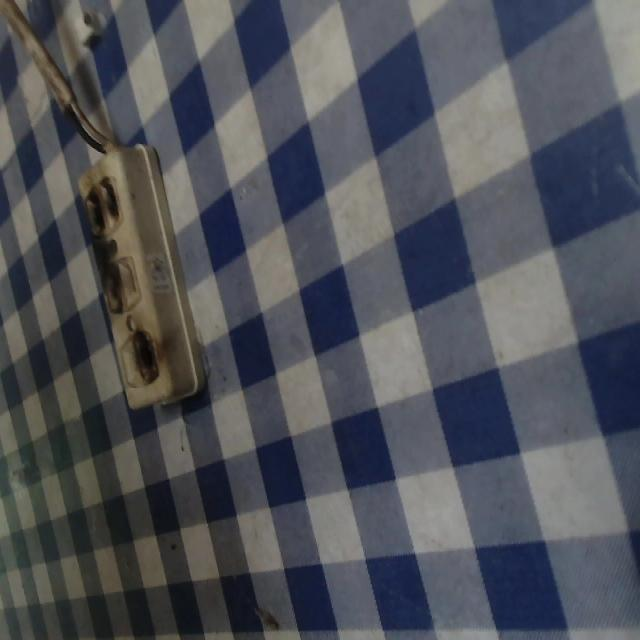-: (79, 176, 123, 232), (130, 329, 161, 384), (99, 260, 125, 312)
